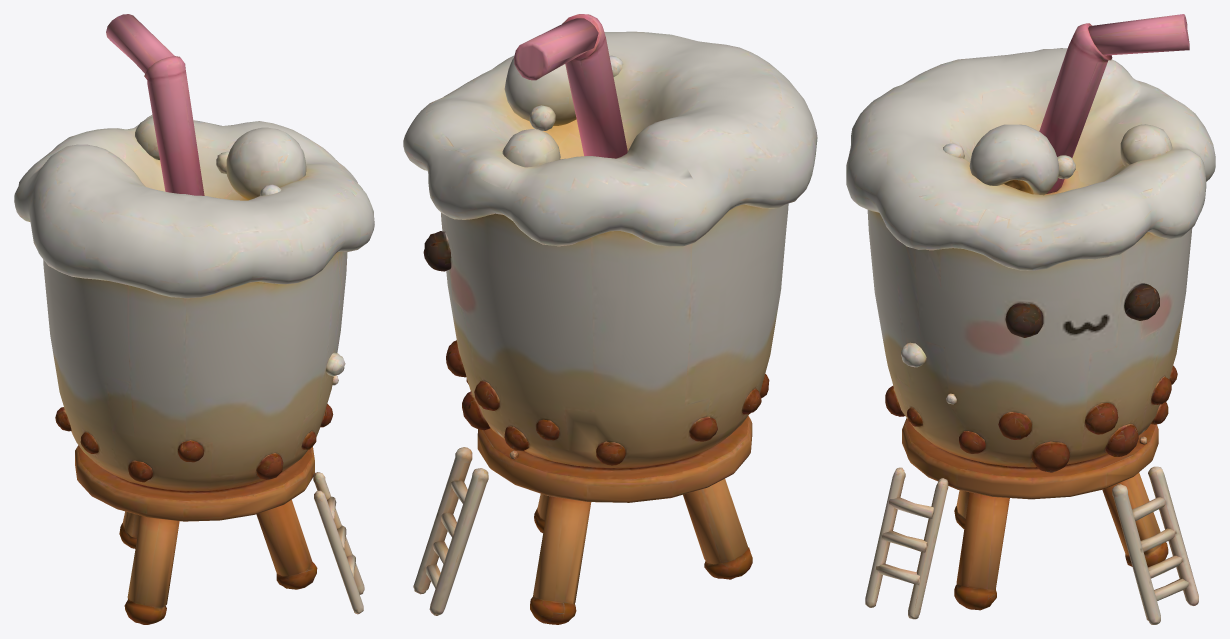
The model's file is boba-water-tower.glb.
The picture shows the model from 3 angles, left to right: view 1: azimuth 30°, elevation 25°; view 2: azimuth 150°, elevation 25°; view 3: azimuth 270°, elevation 25°; orthographic projection. The views are drawn at different scales.
Parts seen in each view (by area): view 1: tripo_node_a74f0270-0a31-4109-9a31-20a27b153412; view 2: tripo_node_a74f0270-0a31-4109-9a31-20a27b153412; view 3: tripo_node_a74f0270-0a31-4109-9a31-20a27b153412.
Part boxes in pixels (left/top/right/bottom): tripo_node_a74f0270-0a31-4109-9a31-20a27b153412: left=14, top=14, right=374, bottom=624; tripo_node_a74f0270-0a31-4109-9a31-20a27b153412: left=403, top=14, right=817, bottom=624; tripo_node_a74f0270-0a31-4109-9a31-20a27b153412: left=846, top=14, right=1215, bottom=624.
Size of the model in its own units: 0.6308 by 0.998 by 0.6074.
Materials: 1 (1 with a texture image).
